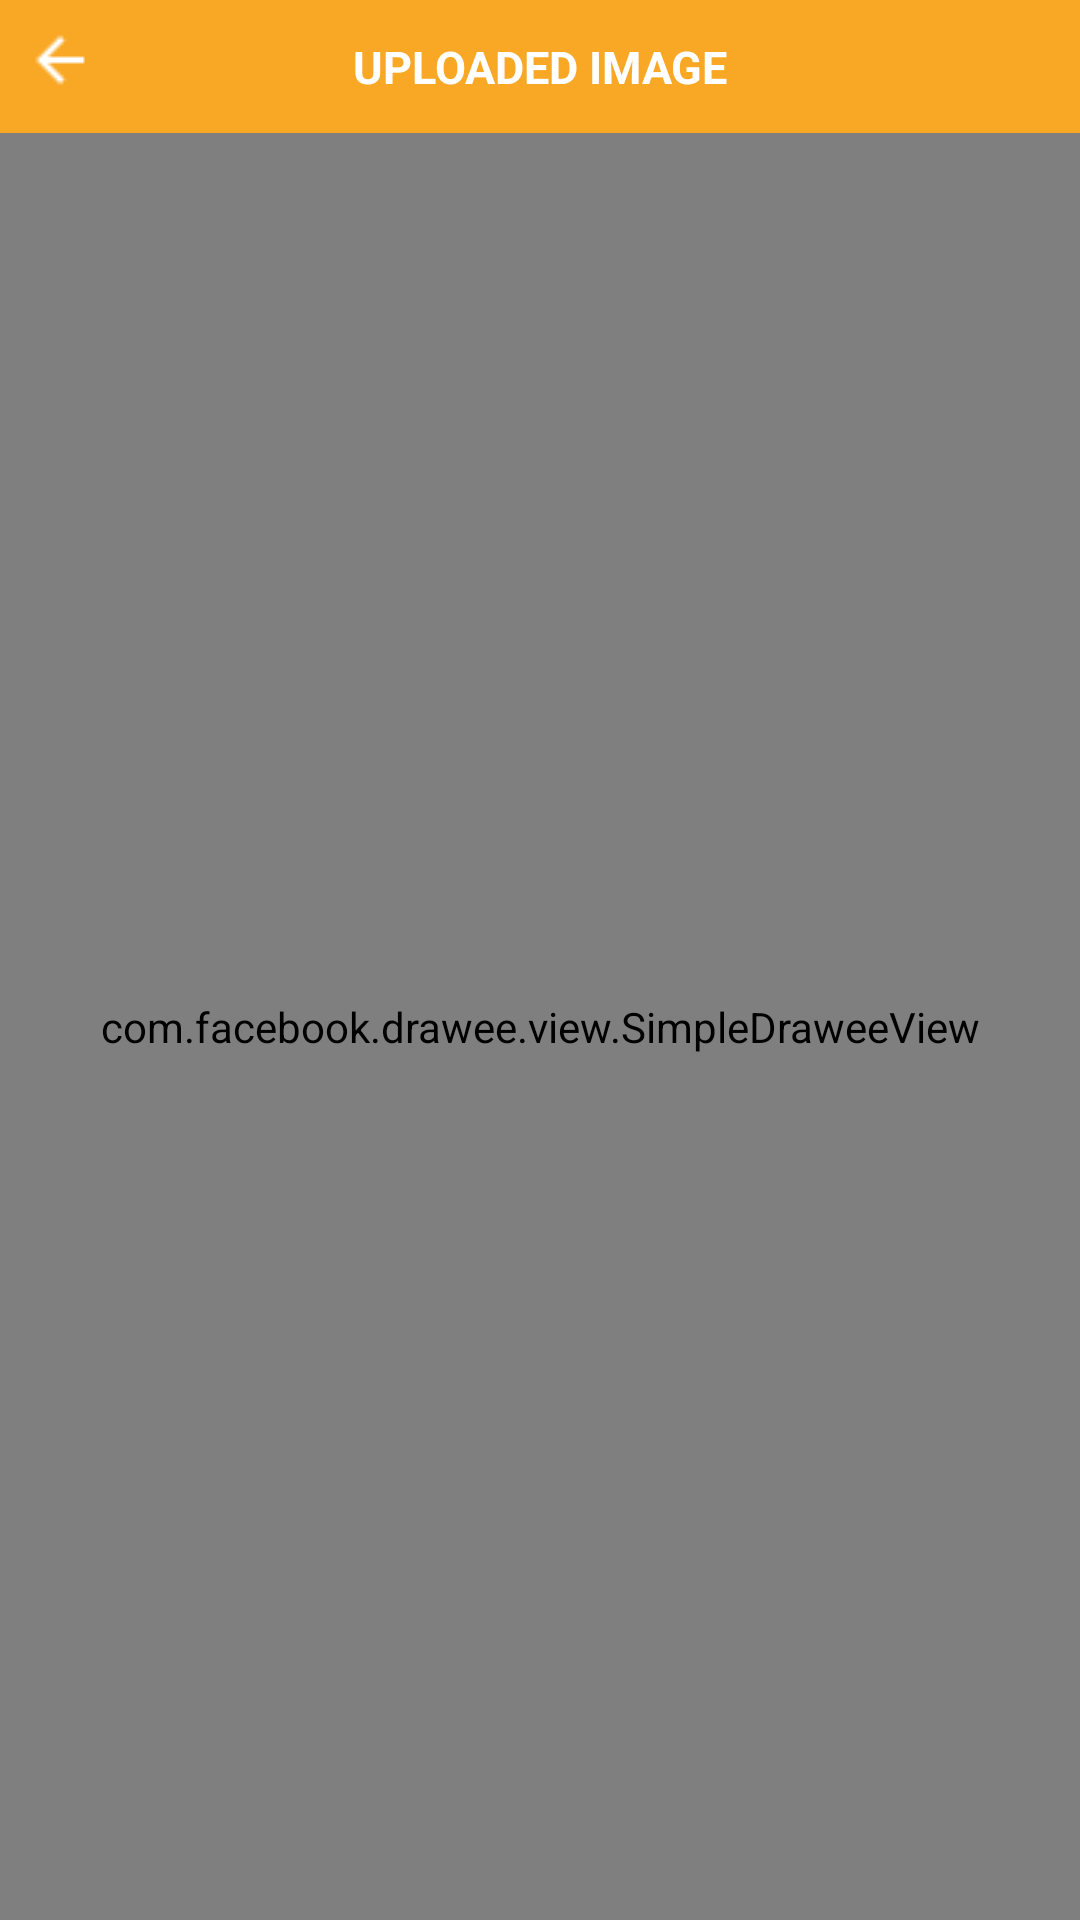

Named icons in this screenshot (1080px x 1920px) and their bounding boxes, bbox(x1, y1, x2, y2):
back: bbox(35, 35, 85, 85)
